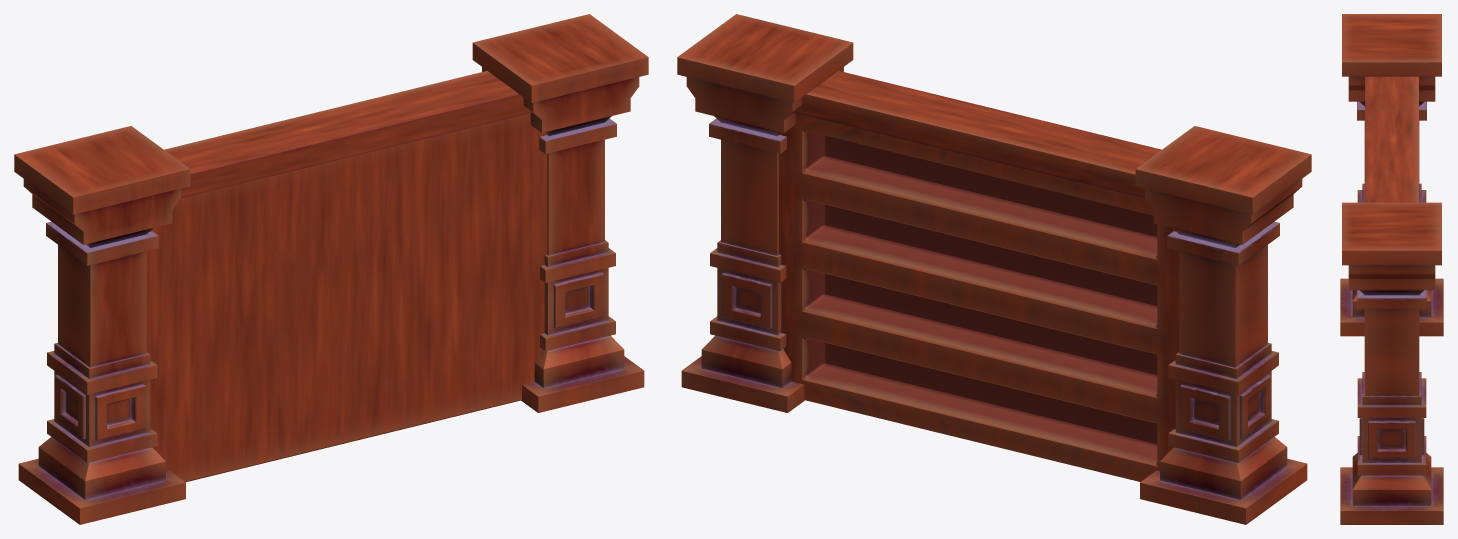
Rendered from lvl2_wall_door.fbx.
3 views of the same model, side by side, from view 1: azimuth 30°, elevation 25°; view 2: azimuth 150°, elevation 25°; view 3: azimuth 270°, elevation 25° (orthographic). The views are drawn at different scales.
Visible parts, largest first — view 1: bookcase, bookcase_door; view 2: bookcase, bookcase_door; view 3: bookcase.
Part boxes in pixels (<box>): bookcase: <box>14,14,648,524</box>; bookcase_door: <box>146,158,346,481</box>; bookcase: <box>677,14,1311,524</box>; bookcase_door: <box>980,158,1179,481</box>; bookcase: <box>1340,14,1443,524</box>.
Size of the model in its own units: 1314 by 715 by 243.
